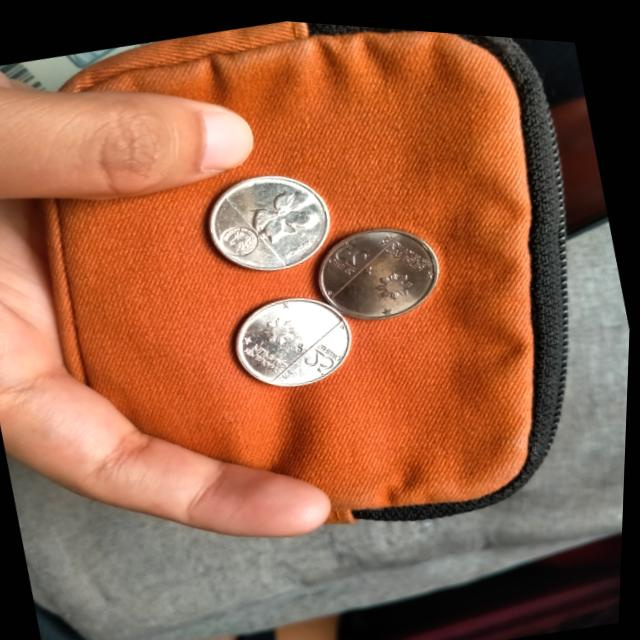25Cent_New_Back: (247, 172, 330, 249)
25Cent_New_Front: (295, 328, 353, 380), (320, 233, 370, 280)
